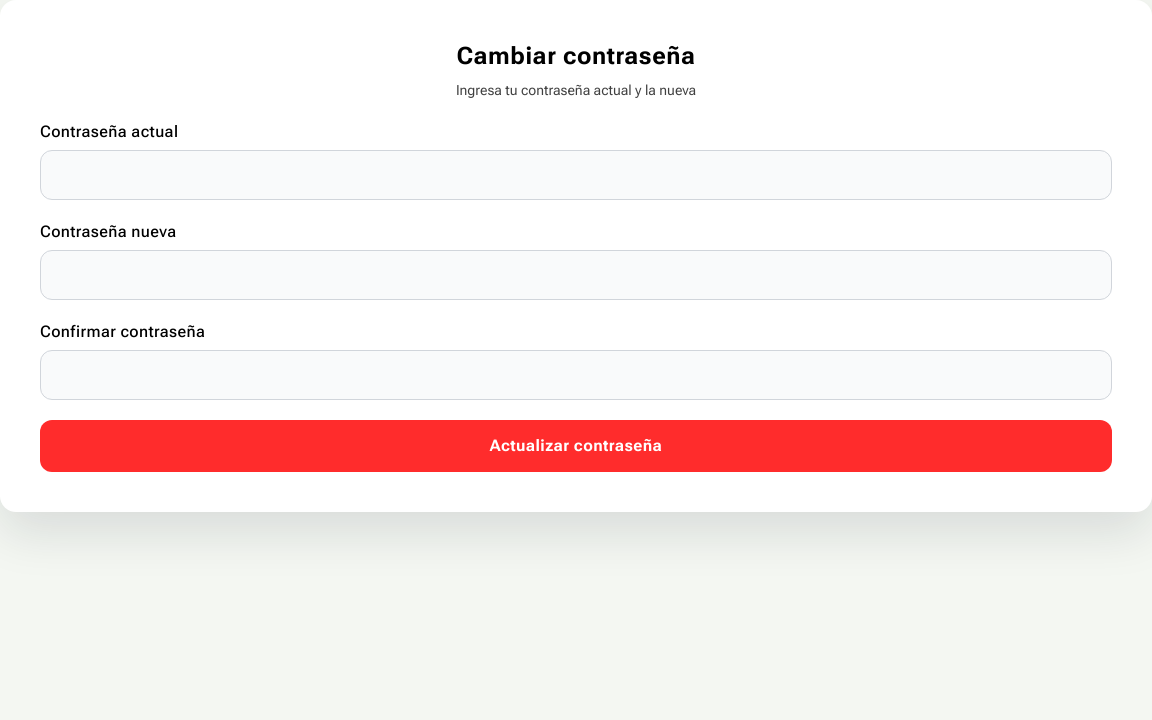
Test: ChangePasswordForm › cambia la contraseña y limpia el formulario
Step 1. Type "OldPass1!" into the 1st password field → (576, 175), box [40,150,1112,200]
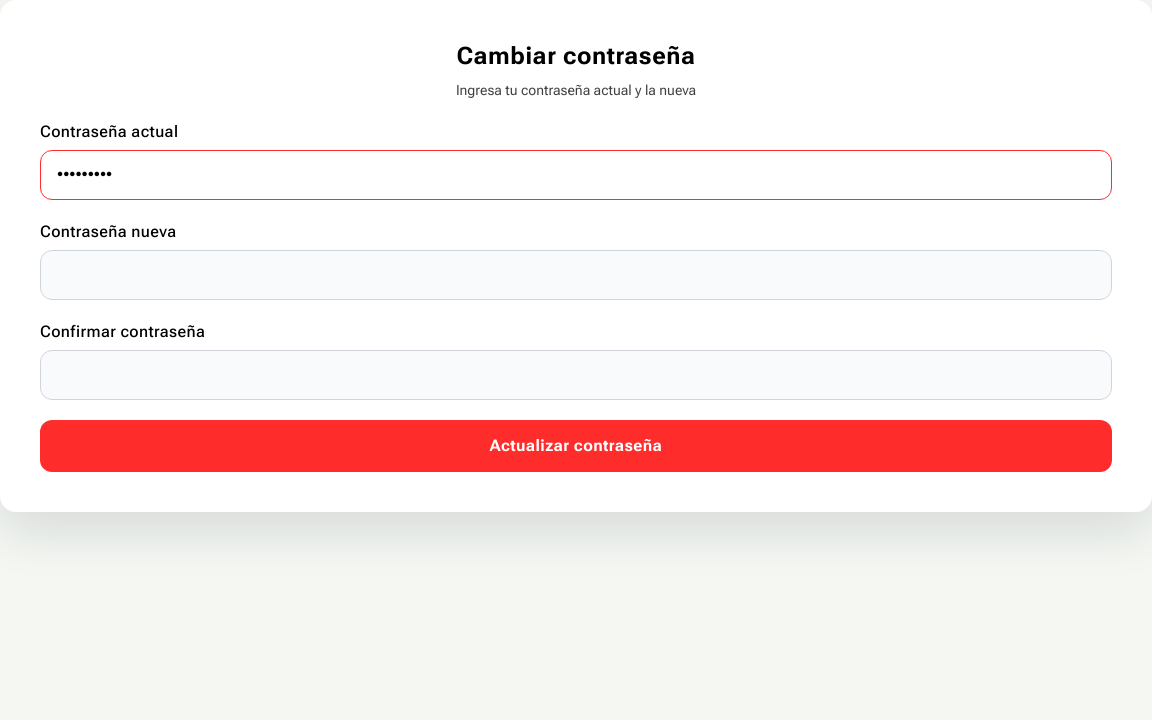
Step 2. Type "NewPass1!" into the password field below "Contraseña nueva" → (576, 275), box [40,250,1112,300]
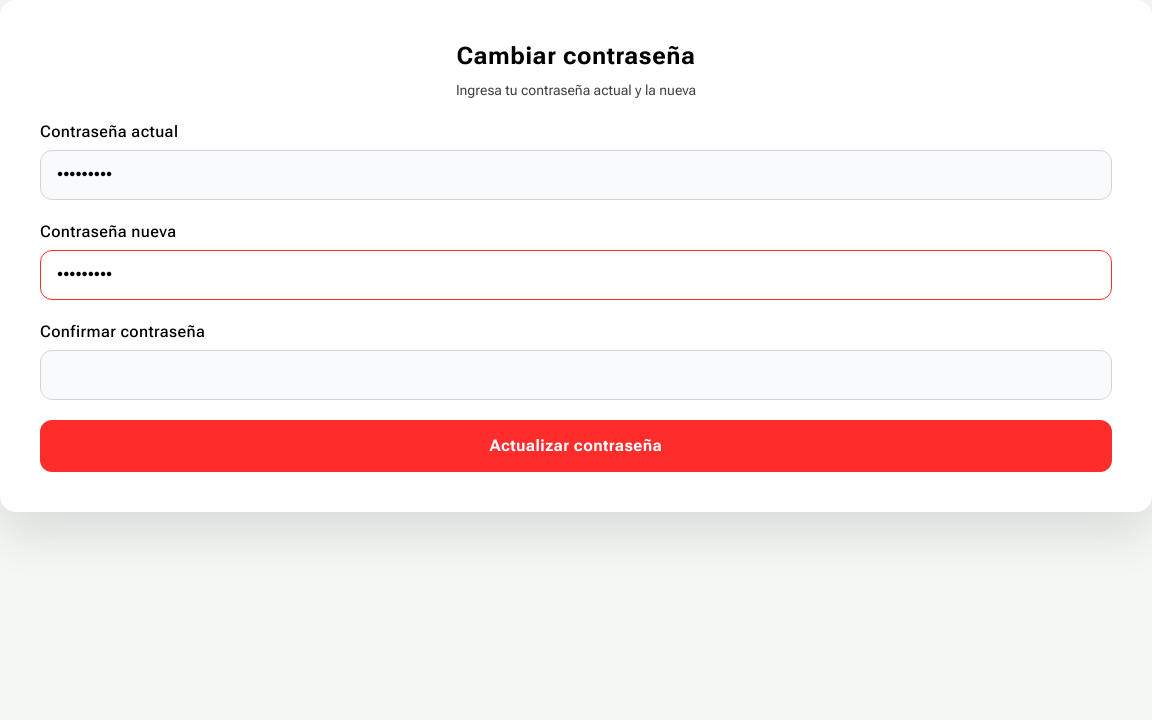
Step 3. Type "NewPass1!" into the password field below "Confirmar contraseña" → (576, 375), box [40,350,1112,400]
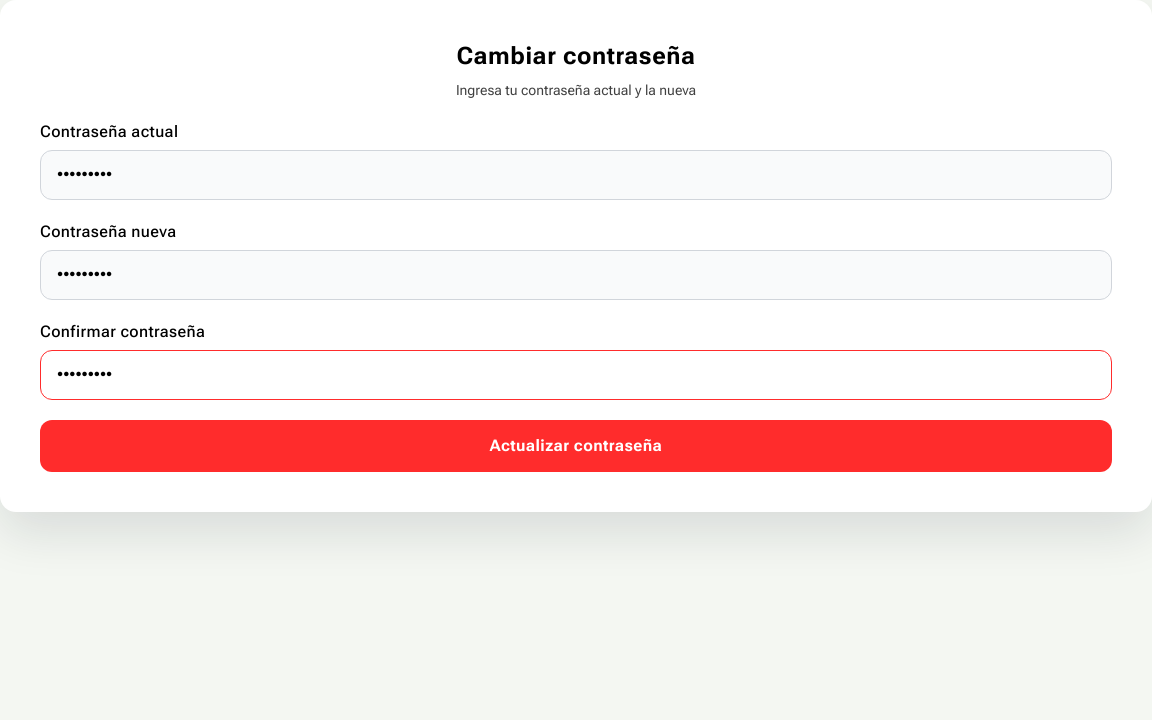
Step 4. Click the button "Actualizar contraseña" → (576, 446), box [40,420,1112,472]
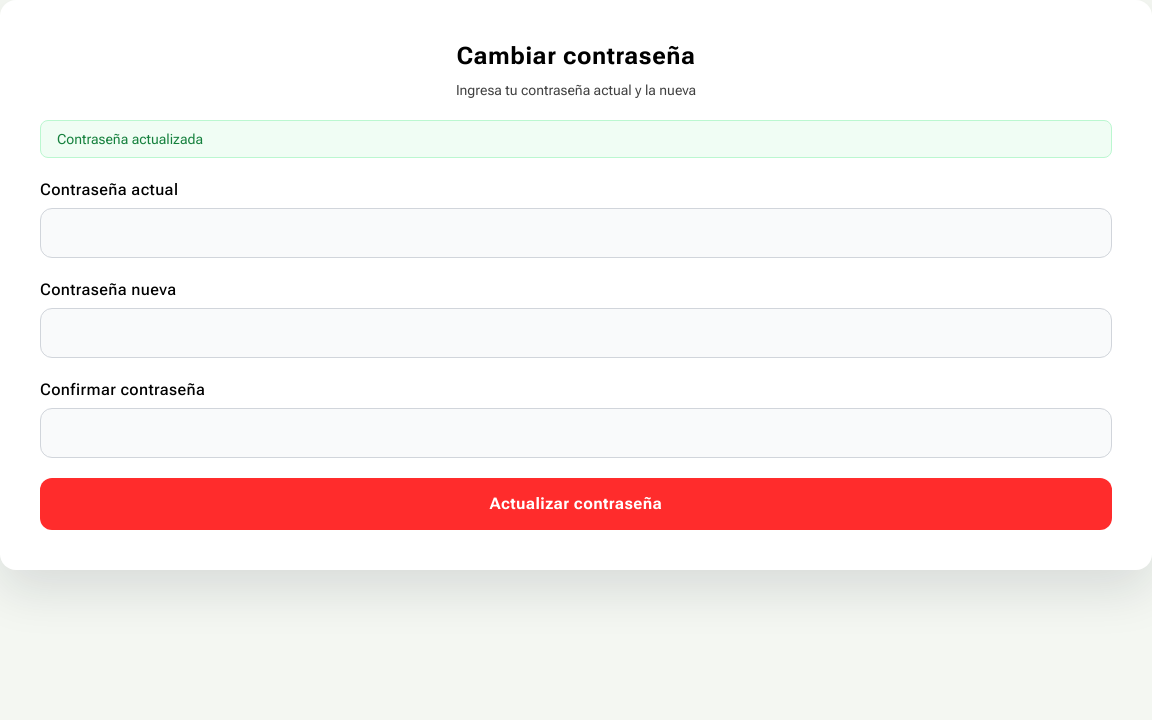
Expected: the text "Contraseña actualizada" is shown, [40,120,1112,158]
